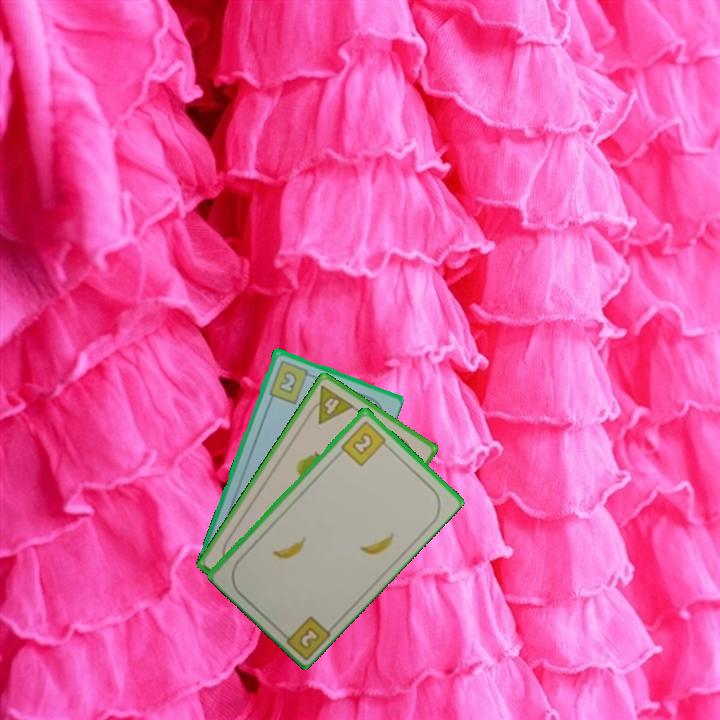2b: (337, 417, 392, 469), (276, 612, 334, 660), (265, 357, 316, 406)
4p: (303, 381, 357, 427)
